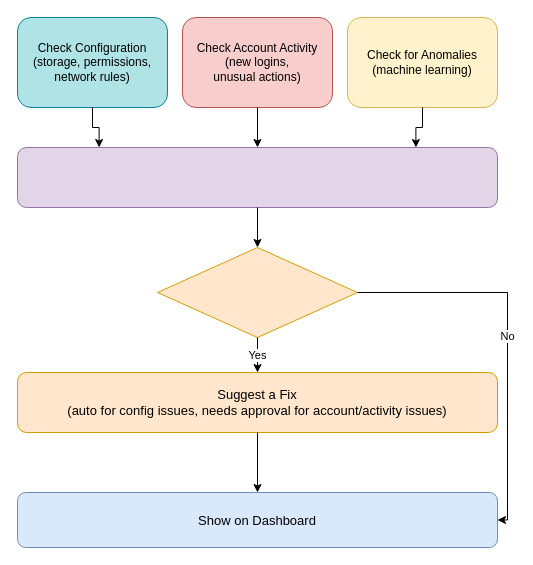
The diagram is 533 pixels wide and 565 high, and some of its shapes have lost their labels. Here are the shapes that lost their labels. From the top down, the centre of each, then its label:
At [257,177]: "Combine Results Assign a Risk Level: Low / Medium / High / Critical".
At [257,292]: "Is it High or Critical risk?".
